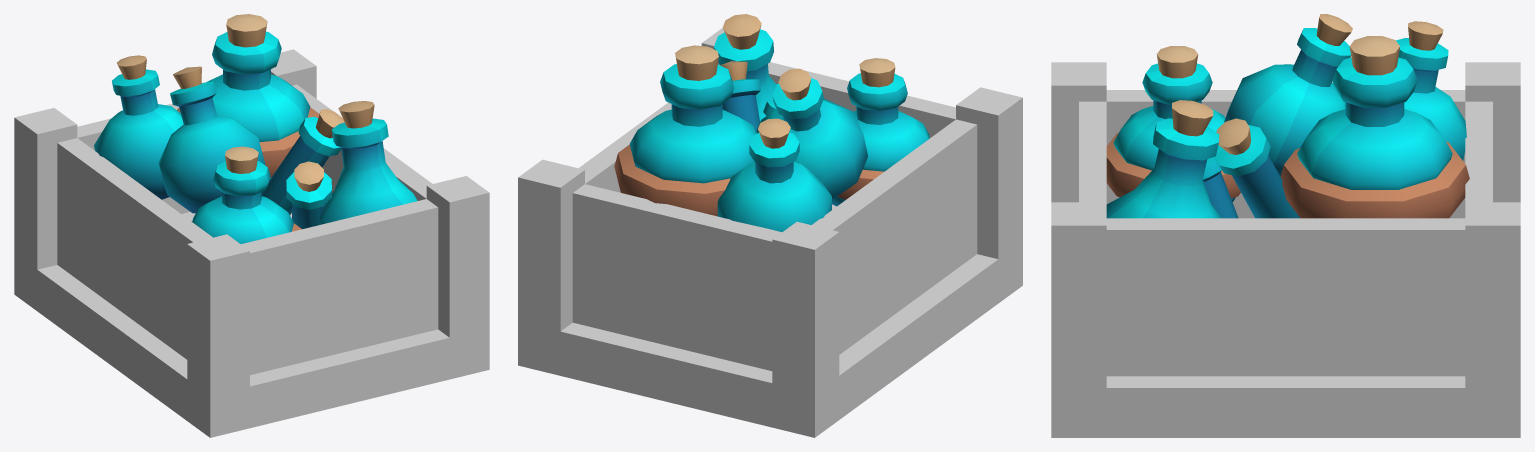
File: PotionBoxBlue.fbx
3 renders of one model, left to right at view 1: azimuth 30°, elevation 25°; view 2: azimuth 150°, elevation 25°; view 3: azimuth 270°, elevation 25°, orthographic. The views are drawn at different scales.
Visible parts, largest first — view 1: plan, potion_huge_red.001; view 2: plan, potion_huge_red.001; view 3: plan, potion_huge_red.001.
Part boxes in pixels (box(x1,y1,x2,y2)): plan: box(14, 49, 489, 437); potion_huge_red.001: box(94, 14, 417, 243); plan: box(518, 28, 1022, 437); potion_huge_red.001: box(614, 14, 930, 232); plan: box(1051, 62, 1520, 437); potion_huge_red.001: box(1106, 14, 1469, 218).
Size of the model in its own units: 0.3234 by 0.308 by 0.3927.
